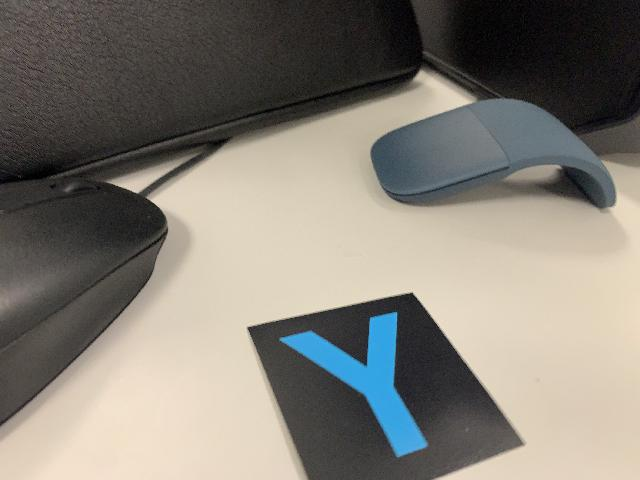alphabet_y: (245, 290, 529, 479)
